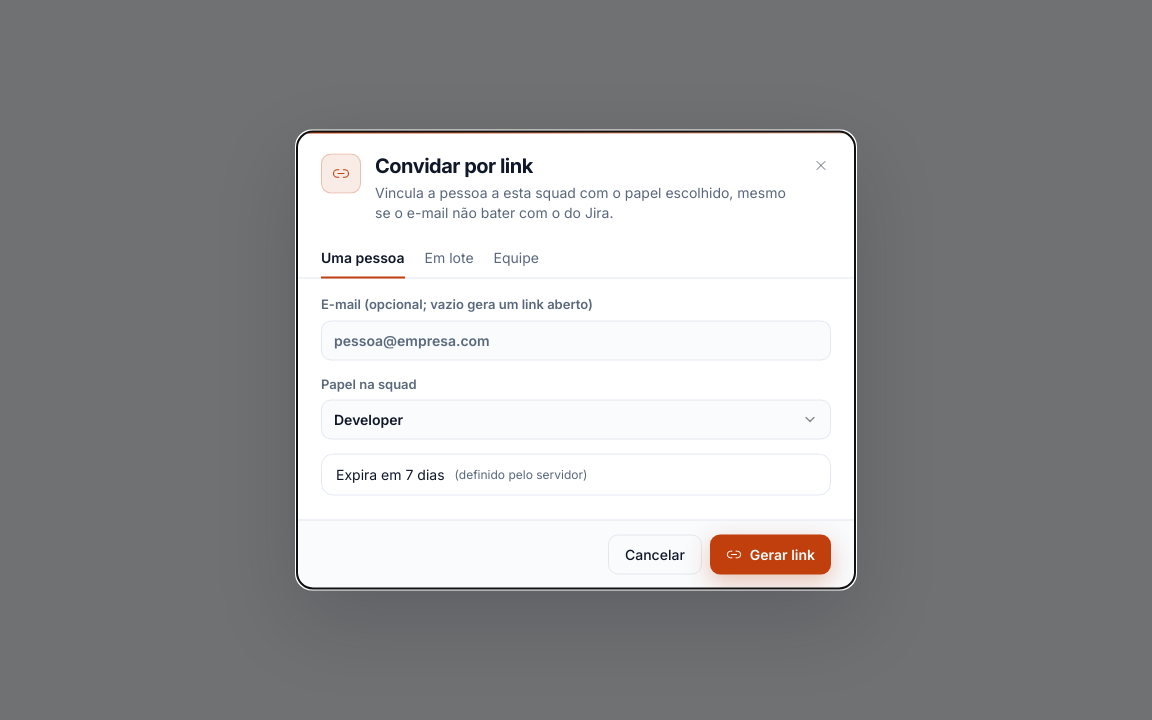
Test: criar convite de equipe na tela › quem não é admin não gera sem limite
The width and height of the screenshot is (1152, 720).
Click the tab "Equipe" at (516,258), box [494,238,539,278]
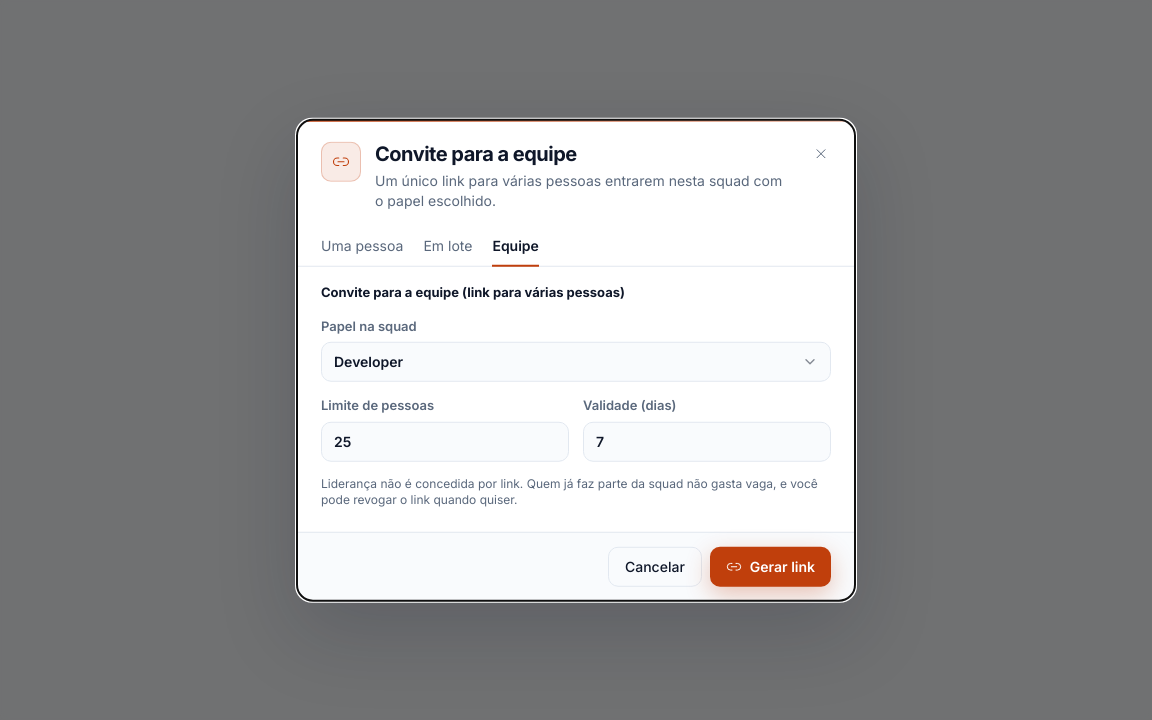
Clear the number field labelled "Limite de pessoas" at (445,441), box [321,421,569,461]
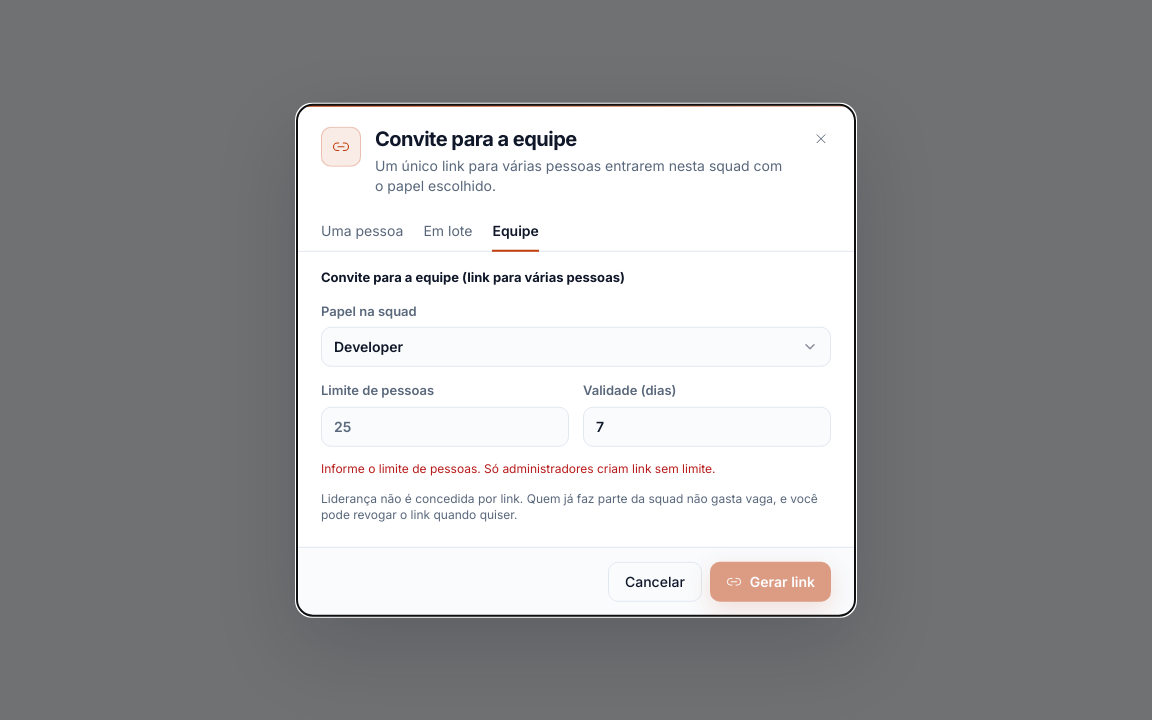
Expected: the message shows "Só administradores", [321,460,716,475]
Expected: the button "Gerar link" is disabled, [710,561,831,601]
